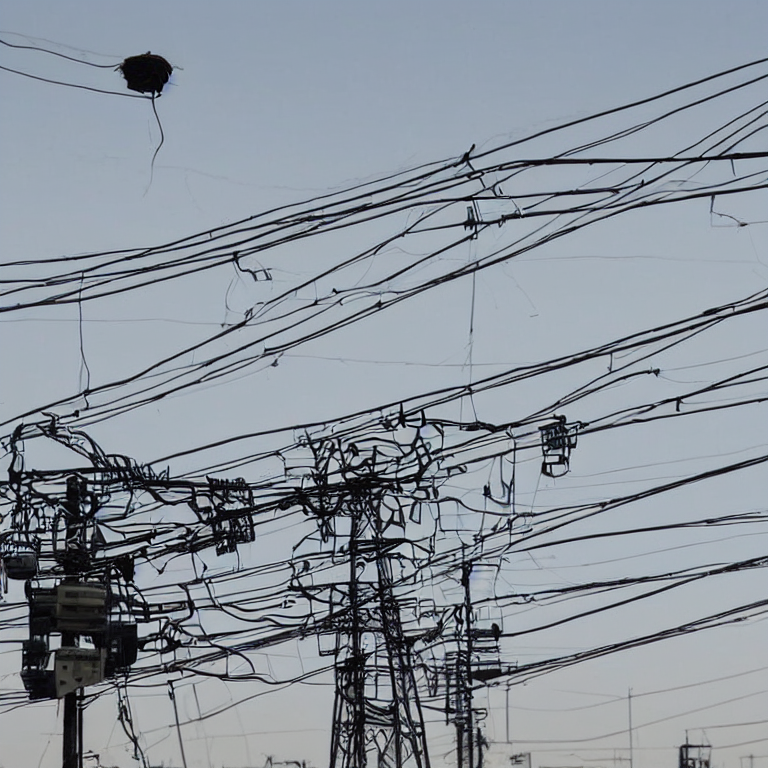nest: (122, 54, 174, 92)
